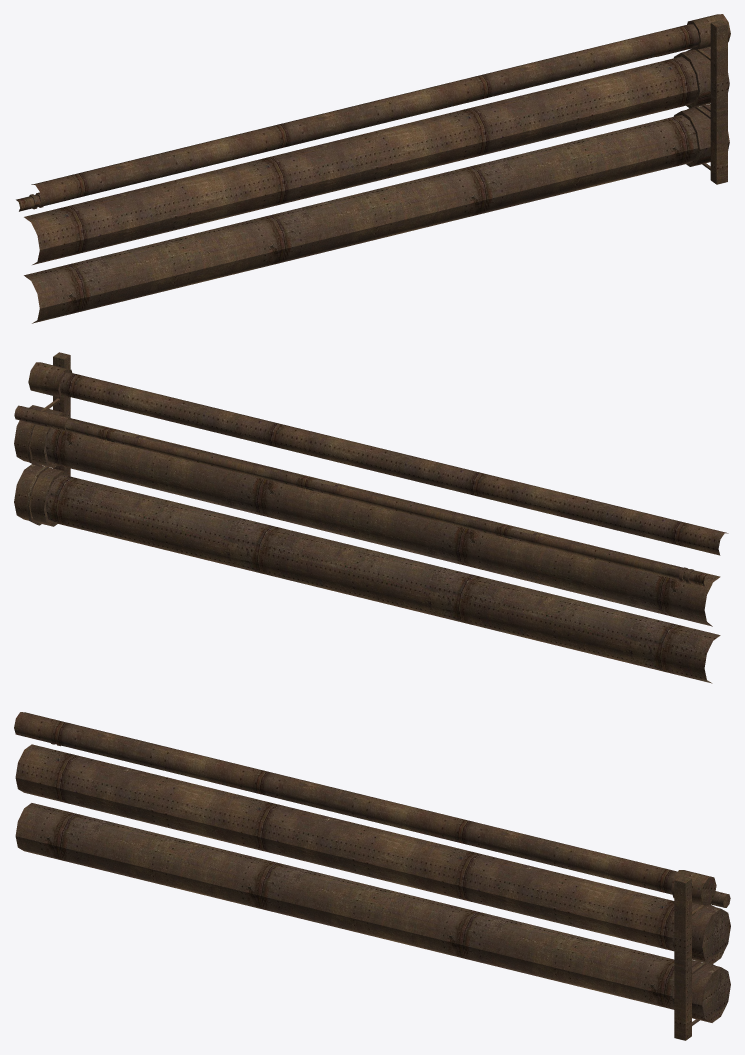
File: pipeset08d_128_001a.glb
3 renders of one model, top to bottom at view 1: azimuth 30°, elevation 25°; view 2: azimuth 150°, elevation 25°; view 3: azimuth 330°, elevation 25°, orthographic.
Visible parts, largest first — view 1: 0_pipeset_metal; view 2: 0_pipeset_metal; view 3: 0_pipeset_metal.
Boxes of the visible parts, x1=… form: 0_pipeset_metal: x1=16, y1=14, x2=730, y2=323; 0_pipeset_metal: x1=14, y1=352, x2=728, y2=683; 0_pipeset_metal: x1=14, y1=712, x2=730, y2=1040.
Size of the model in its own units: 3.25 by 0.7112 by 0.3048.
1 material, 1 textured.
